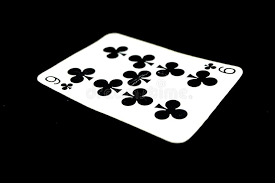nine of clubs: (37, 31, 245, 143)
